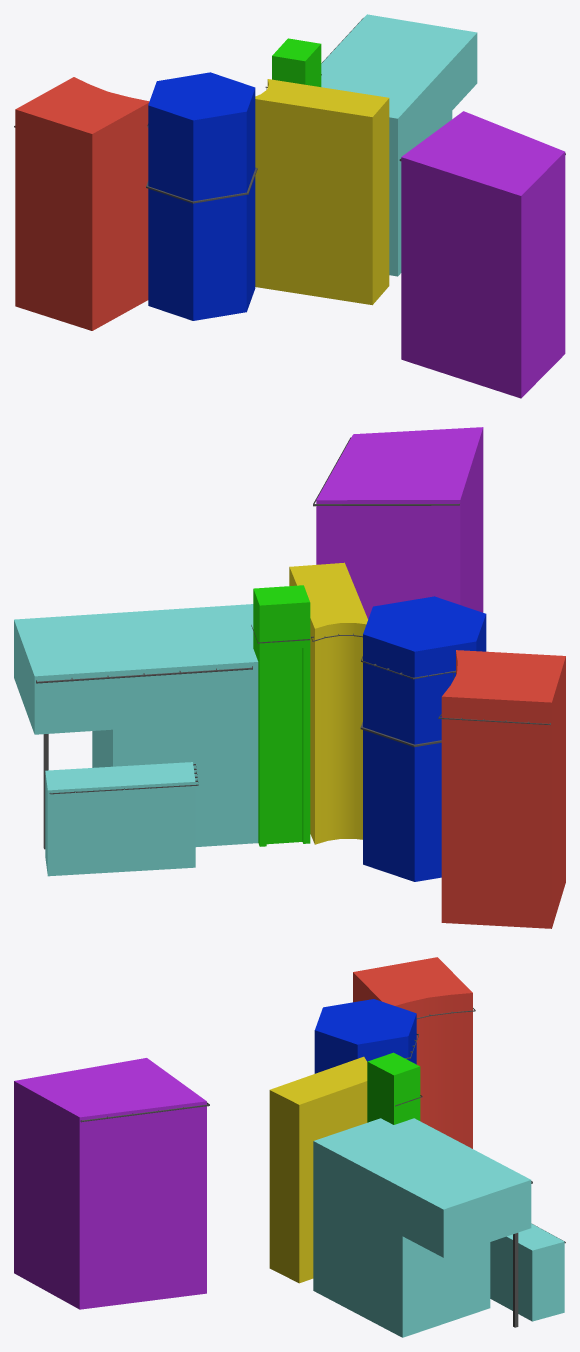
Rendered from building3.fbx.
3 views of the same model, one above another, from view 1: azimuth 30°, elevation 25°; view 2: azimuth 150°, elevation 25°; view 3: azimuth 270°, elevation 25° (orthographic). The views are drawn at different scales.
Visible parts, largest first — view 1: building3_part4, building3_part1, building3_part3, building3_part2, building3_part6, building3_part5; view 2: building3_part6, building3_part1, building3_part4, building3_part2, building3_part3, building3_part5, Building_Stand; view 3: building3_part4, building3_part6, building3_part3, building3_part1, building3_part2, building3_part5, Building_Stand.
Part boxes in pixels (x1,y1,x2,y2): building3_part4: (401, 111, 565, 398); building3_part1: (15, 77, 149, 330); building3_part3: (255, 79, 389, 305); building3_part2: (148, 72, 255, 320); building3_part6: (321, 14, 477, 276); building3_part5: (272, 38, 321, 86); building3_part6: (14, 604, 258, 876); building3_part1: (441, 650, 565, 928); building3_part4: (316, 427, 483, 619); building3_part2: (363, 596, 486, 881); building3_part3: (289, 562, 367, 844); building3_part5: (253, 585, 310, 846); Building_Stand: (36, 437, 550, 849); building3_part4: (14, 1058, 206, 1309); building3_part6: (313, 1118, 564, 1337); building3_part3: (269, 1056, 367, 1283); building3_part1: (353, 957, 472, 1148); building3_part2: (314, 999, 416, 1073); building3_part5: (367, 1052, 420, 1124); Building_Stand: (80, 1008, 565, 1327).
Bounding box in the file's own units: 7953 × 3437 × 8605.
